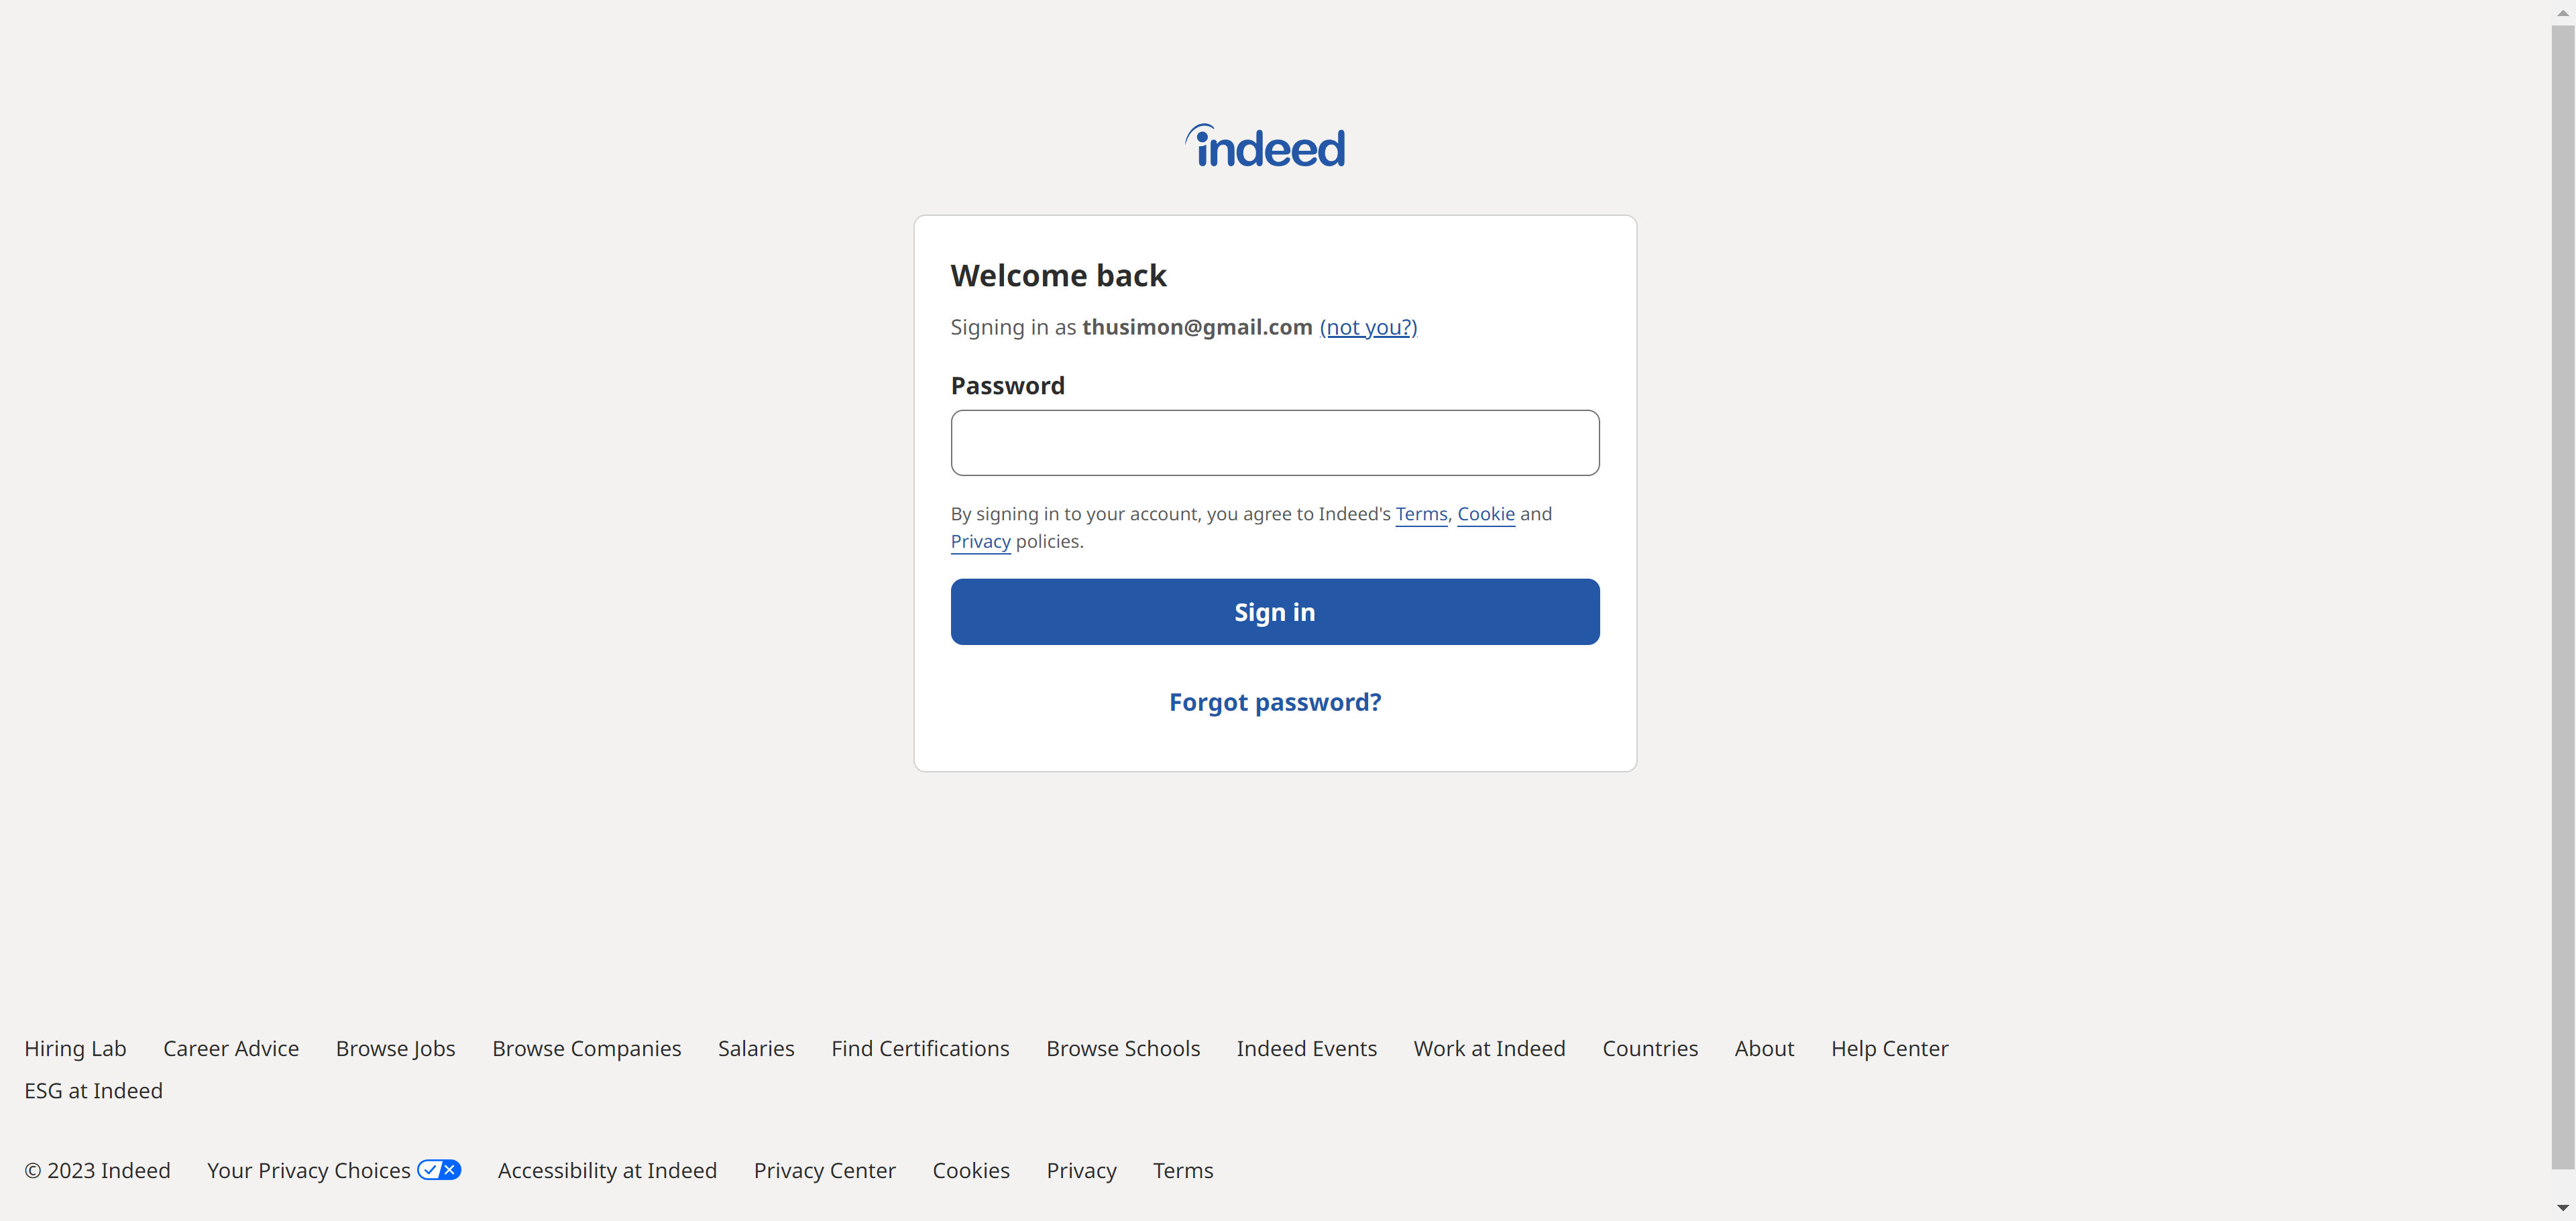login_button: (951, 578, 1600, 646)
login_form: (946, 373, 1605, 654)
